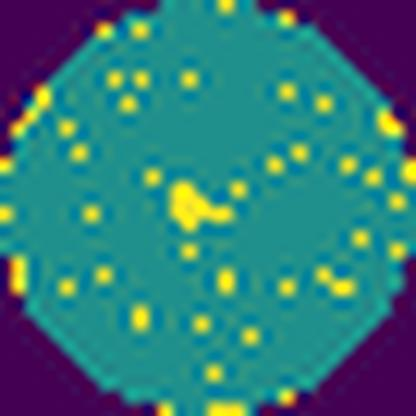Center: (160, 178, 238, 240)
